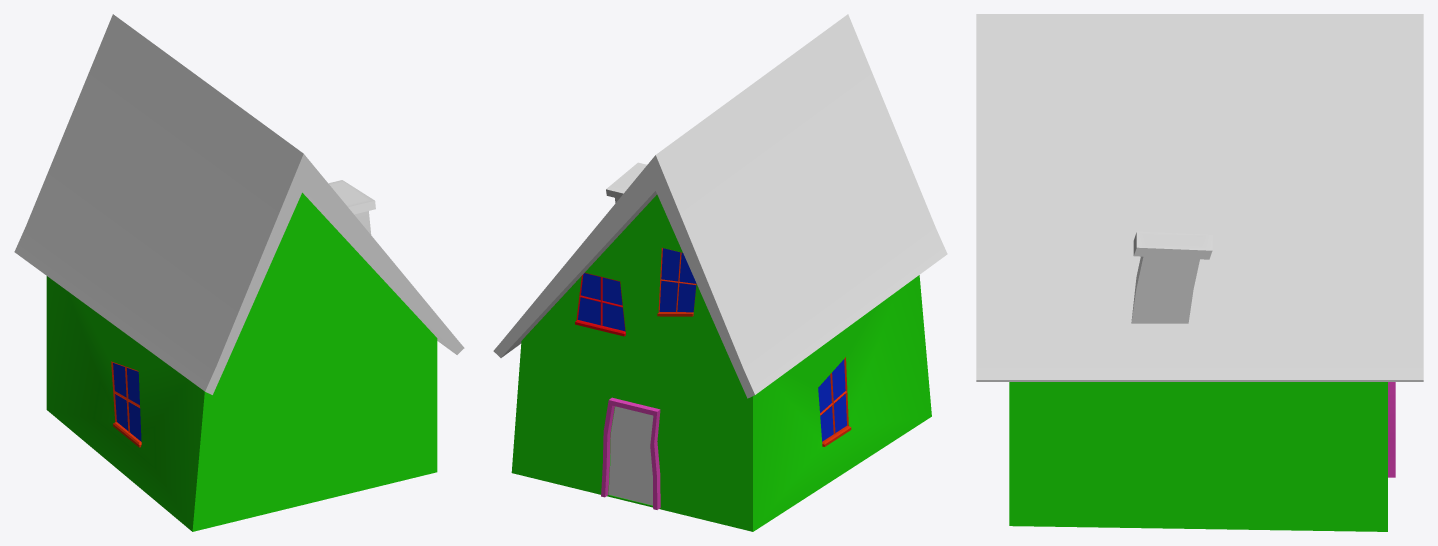
Rendered from Meadowhouse.fbx.
The picture shows the model from 3 angles, left to right: view 1: azimuth 30°, elevation 25°; view 2: azimuth 150°, elevation 25°; view 3: azimuth 270°, elevation 25°; orthographic projection. The views are drawn at different scales.
Visible parts, largest first — view 1: House, Roof, Window, Chimney; view 2: Roof, House, Door, Window.001, Window.002, Window, Chimney; view 3: Roof, House, Chimney.
Part boxes in pixels (<box>): House: <box>46,192,437,531</box>; Roof: <box>14,14,464,394</box>; Window: <box>111,361,141,447</box>; Chimney: <box>328,180,375,234</box>; Roof: <box>493,14,947,398</box>; House: <box>511,194,931,531</box>; Door: <box>608,406,653,505</box>; Window.001: <box>575,273,625,336</box>; Window.002: <box>657,248,696,316</box>; Window: <box>818,357,851,446</box>; Chimney: <box>606,162,646,202</box>; Roof: <box>976,14,1423,381</box>; House: <box>1009,382,1395,531</box>; Chimney: <box>1131,231,1212,323</box>.
Bounding box in the file's own units: 683 × 922 × 870.
